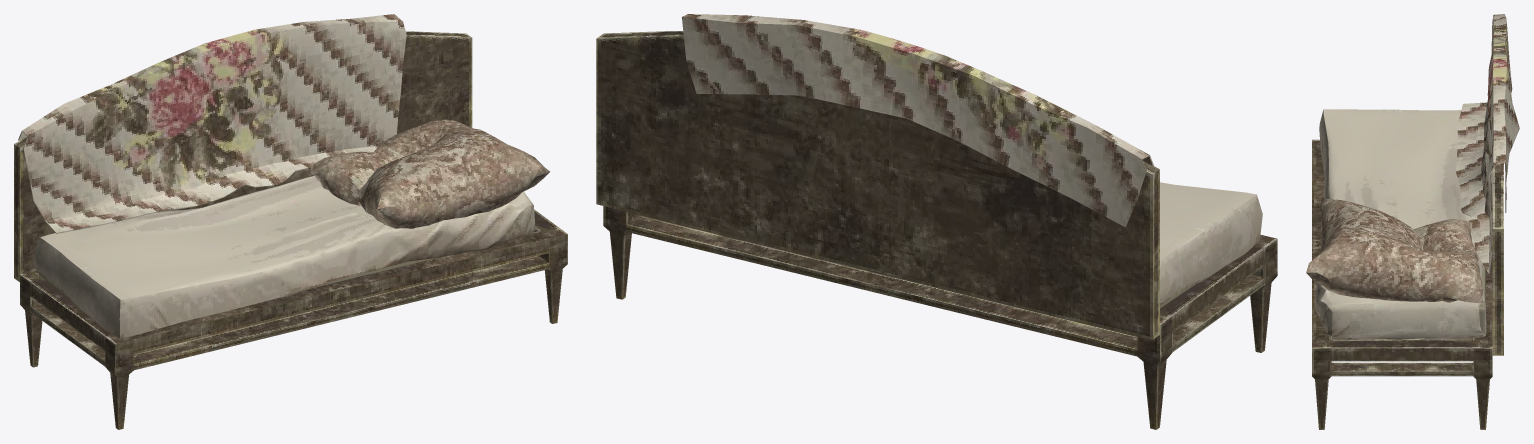
Rendered from b_daybed.glb.
3 renders of one model, left to right at view 1: azimuth 30°, elevation 25°; view 2: azimuth 150°, elevation 25°; view 3: azimuth 270°, elevation 25°, orthographic. The views are drawn at different scales.
Parts seen in each view (by area): view 1: body; view 2: body; view 3: body.
Part boxes in pixels (<box>): body: <box>14,14,567,429</box>; body: <box>596,14,1277,429</box>; body: <box>1306,14,1519,429</box>.
Bounding box in the file's own units: 1.97 × 1.13 × 0.8548.
Materials: 1 (1 with a texture image).
